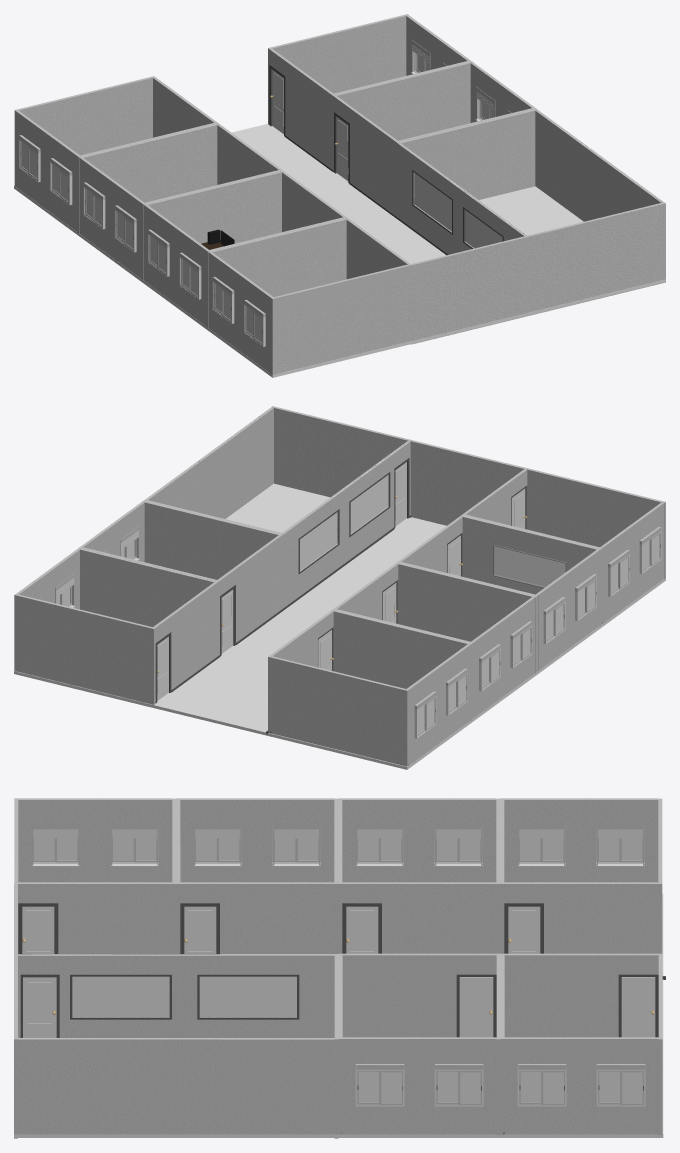
Rendered from Hub_Room.fbx.
The picture shows the model from 3 angles, top to bottom: view 1: azimuth 30°, elevation 25°; view 2: azimuth 150°, elevation 25°; view 3: azimuth 270°, elevation 25°; orthographic projection. The views are drawn at different scales.
Visible parts, largest first — view 1: wall.024, Floor, OfficeRoom|wall|Dupli|2, wall.027, wall.026, wall.025, OfficeRoom.003|wall|Dupli|2, OfficeRoom.001|wall.002|Dupli|1, OfficeRoom|wall.002|Dupli|1, OfficeRoom.004|wall|Dupli|2, OfficeRoom.002|wall.002|Dupli|1, wall.002 (+35 smaller); view 2: Floor, wall.024, OfficeRoom.003|wall|Dupli|2, OfficeRoom.002|wall.002|Dupli|1, wall.026, wall.025, OfficeRoom.002|wall|Dupli|2, OfficeRoom|wall|Dupli|2, OfficeRoom.001|wall|Dupli|2, OfficeRoom.004|wall.002|Dupli|1, OfficeRoom.003|wall.002|Dupli|1, OfficeRoom.003|wall.003|Dupli|3 (+35 smaller); view 3: wall.026, wall.025, Cube.036, OfficeRoom.003|wall.001|Dupli|, OfficeRoom.004|wall.001|Dupli|, OfficeRoom.003|wall.003|Dupli|3, OfficeRoom.004|wall.003|Dupli|3, wall.003, OfficeRoom|wall.003|Dupli|3, OfficeRoom.001|wall.003|Dupli|3, OfficeRoom.002|wall.003|Dupli|3, OfficeRoom.001|wall.001|Dupli| (+64 smaller).
Boxes of the visible parts, left/top/right/bottom form: wall.024: left=411, top=202, right=665, bottom=344; Floor: left=14, top=123, right=665, bottom=377; OfficeRoom|wall|Dupli|2: left=271, top=280, right=411, bottom=374; wall.027: left=397, top=109, right=537, bottom=199; wall.026: left=535, top=110, right=663, bottom=221; wall.025: left=397, top=143, right=526, bottom=254; OfficeRoom.003|wall|Dupli|2: left=268, top=31, right=406, bottom=124; OfficeRoom.001|wall.002|Dupli|1: left=79, top=140, right=217, bottom=233; OfficeRoom|wall.002|Dupli|1: left=208, top=235, right=346, bottom=328; OfficeRoom.004|wall|Dupli|2: left=332, top=78, right=470, bottom=169; OfficeRoom.002|wall.002|Dupli|1: left=14, top=93, right=152, bottom=186; wall.002: left=143, top=188, right=281, bottom=280; Floor: left=14, top=483, right=665, bottom=769; wall.024: left=271, top=406, right=525, bottom=525; OfficeRoom.003|wall|Dupli|2: left=14, top=610, right=155, bottom=704; OfficeRoom.002|wall.002|Dupli|1: left=270, top=673, right=408, bottom=766; wall.026: left=145, top=407, right=273, bottom=518; wall.025: left=282, top=441, right=410, bottom=608; OfficeRoom.002|wall|Dupli|2: left=333, top=627, right=472, bottom=720; OfficeRoom|wall|Dupli|2: left=526, top=485, right=665, bottom=578; OfficeRoom.001|wall|Dupli|2: left=397, top=579, right=536, bottom=673; OfficeRoom.004|wall.002|Dupli|1: left=144, top=518, right=262, bottom=579; OfficeRoom.003|wall.002|Dupli|1: left=80, top=565, right=197, bottom=626; OfficeRoom.003|wall.003|Dupli|3: left=171, top=597, right=218, bottom=689; wall.026: left=17, top=1038, right=338, bottom=1134; wall.025: left=18, top=954, right=334, bottom=1037; Cube.036: left=72, top=976, right=296, bottom=1017; OfficeRoom.003|wall.001|Dupli|: left=504, top=1058, right=658, bottom=1134; OfficeRoom.004|wall.001|Dupli|: left=342, top=1058, right=496, bottom=1134; OfficeRoom.003|wall.003|Dupli|3: left=504, top=974, right=618, bottom=1037; OfficeRoom.004|wall.003|Dupli|3: left=342, top=974, right=456, bottom=1037; wall.003: left=220, top=903, right=338, bottom=953; OfficeRoom|wall.003|Dupli|3: left=58, top=903, right=176, bottom=953; OfficeRoom.001|wall.003|Dupli|3: left=382, top=903, right=500, bottom=953; OfficeRoom.002|wall.003|Dupli|3: left=544, top=903, right=662, bottom=953; OfficeRoom.001|wall.001|Dupli|: left=342, top=819, right=496, bottom=882.
Bounding box in the file's own units: 1439 × 274 × 1626.
